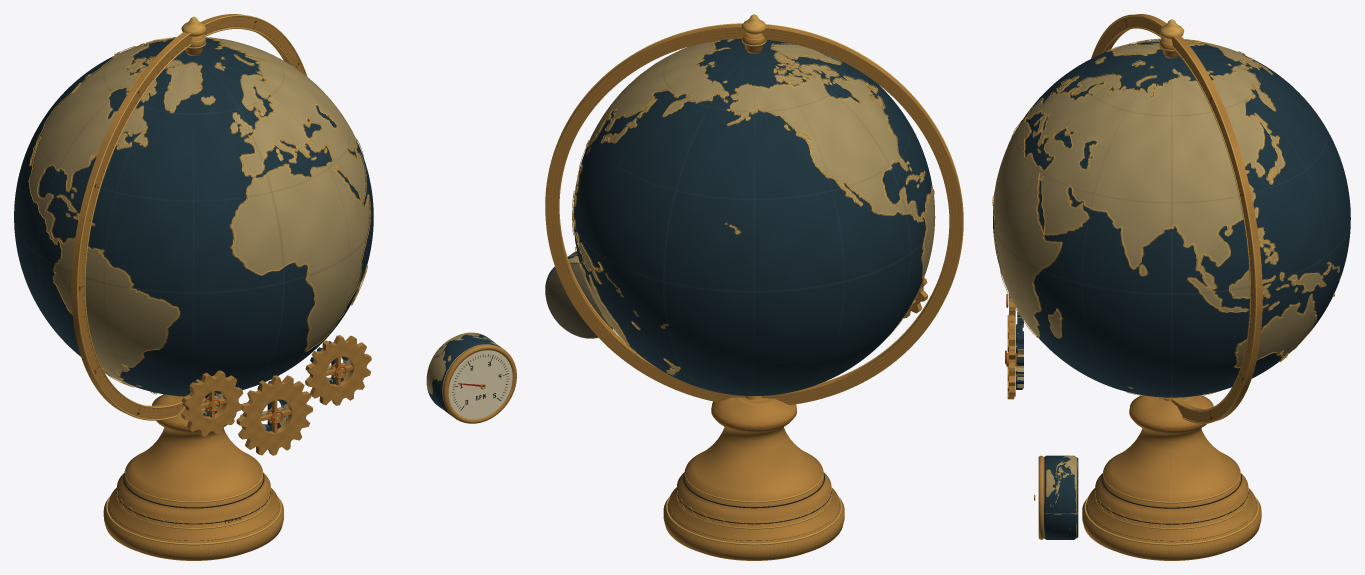
The model's file is MechanicalGlobe.fbx.
The picture shows the model from 3 angles, left to right: view 1: azimuth 30°, elevation 25°; view 2: azimuth 150°, elevation 25°; view 3: azimuth 270°, elevation 25°; orthographic projection.
Visible parts, largest first — view 1: Sphere_DarkMetalShell, Sphere_EngravedContinentSections_0, Pedestal_SteppedSculptedBrass, Sphere_EngravedContinentSections_7, Meridian_BroadGraduatedBrassBand, Gear_16T_ToothedWheel, RPMGauge_PrintedDial, Gear_14T_ToothedWheel, Gear_12T_ToothedWheel, Sphere_RaisedCoastlineInlay_00, RPMGauge_DarkHousing, Sphere_RaisedCoastlineInlay_03 (+4 smaller); view 2: Sphere_DarkMetalShell, Pedestal_SteppedSculptedBrass, Meridian_BroadGraduatedBrassBand, Sphere_EngravedContinentSections_7, Sphere_EngravedContinentSections_0, RPMGauge_DarkHousing, Sphere_RaisedCoastlineInlay_03, Meridian_PolishedEdge_Outer, Sphere_EngravedContinentSections_6, Sphere_RaisedCoastlineInlay_00, Sphere_EngravedContinentSections_5, Meridian_PolishedEdge_Inner (+1 smaller); view 3: Sphere_DarkMetalShell, Sphere_EngravedContinentSections_0, Pedestal_SteppedSculptedBrass, Meridian_BroadGraduatedBrassBand, RPMGauge_DarkHousing, Sphere_RaisedCoastlineInlay_00, Sphere_EngravedContinentSections_5, Meridian_PolishedEdge_Outer, Sphere_RaisedCoastlineInlay_03, Sphere_EngravedContinentSections_7, Meridian_PolishedEdge_Inner, Sphere_EngravedContinentSections_6 (+5 smaller).
Boxes of the visible parts, x1,y1,x2,y2 form: Sphere_DarkMetalShell: [14, 40, 373, 396]; Sphere_EngravedContinentSections_0: [72, 37, 369, 386]; Pedestal_SteppedSculptedBrass: [103, 394, 283, 560]; Sphere_EngravedContinentSections_7: [29, 44, 178, 393]; Meridian_BroadGraduatedBrassBand: [71, 14, 305, 418]; Gear_16T_ToothedWheel: [236, 375, 312, 455]; RPMGauge_PrintedDial: [448, 350, 512, 419]; Gear_14T_ToothedWheel: [305, 335, 371, 405]; Gear_12T_ToothedWheel: [181, 370, 243, 436]; Sphere_RaisedCoastlineInlay_00: [74, 37, 370, 387]; RPMGauge_DarkHousing: [426, 332, 502, 416]; Sphere_RaisedCoastlineInlay_03: [28, 39, 327, 394]; Sphere_DarkMetalShell: [573, 40, 932, 395]; Pedestal_SteppedSculptedBrass: [663, 397, 844, 560]; Meridian_BroadGraduatedBrassBand: [545, 24, 962, 404]; Sphere_EngravedContinentSections_7: [573, 69, 935, 328]; Sphere_EngravedContinentSections_0: [574, 39, 907, 325]; RPMGauge_DarkHousing: [545, 251, 612, 338]; Sphere_RaisedCoastlineInlay_03: [572, 63, 934, 354]; Meridian_PolishedEdge_Outer: [545, 23, 963, 292]; Sphere_EngravedContinentSections_6: [575, 44, 923, 329]; Sphere_RaisedCoastlineInlay_00: [573, 40, 830, 375]; Sphere_EngravedContinentSections_5: [580, 53, 932, 371]; Meridian_PolishedEdge_Inner: [558, 137, 949, 385]; Sphere_DarkMetalShell: [993, 40, 1350, 397]; Sphere_EngravedContinentSections_0: [993, 41, 1338, 336]; Pedestal_SteppedSculptedBrass: [1082, 395, 1261, 560]; Meridian_BroadGraduatedBrassBand: [1093, 14, 1262, 422]; RPMGauge_DarkHousing: [1044, 455, 1078, 539]; Sphere_RaisedCoastlineInlay_00: [992, 38, 1284, 338]; Sphere_EngravedContinentSections_5: [1033, 40, 1338, 367]; Meridian_PolishedEdge_Outer: [1091, 14, 1256, 423]; Sphere_RaisedCoastlineInlay_03: [1046, 39, 1287, 398]; Sphere_EngravedContinentSections_7: [1162, 40, 1284, 397]; Meridian_PolishedEdge_Inner: [1102, 27, 1250, 411]; Sphere_EngravedContinentSections_6: [1034, 44, 1339, 296].
Size of the model in its own units: 1.84 by 2.13 by 1.36.
8 materials, 8 textured.
